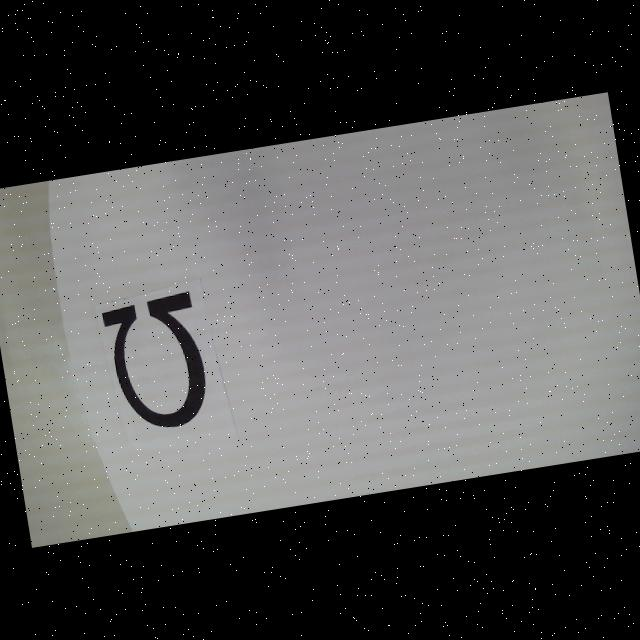OMEGA: (101, 290, 214, 436)
